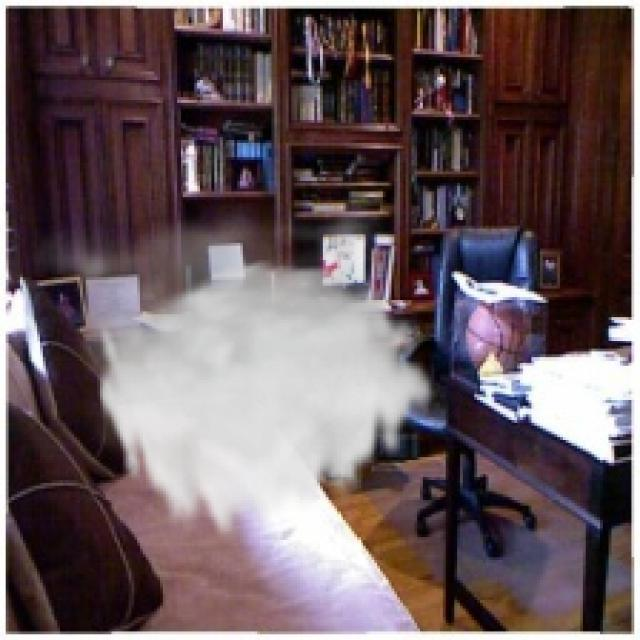Smoke: (22, 191, 438, 546)
